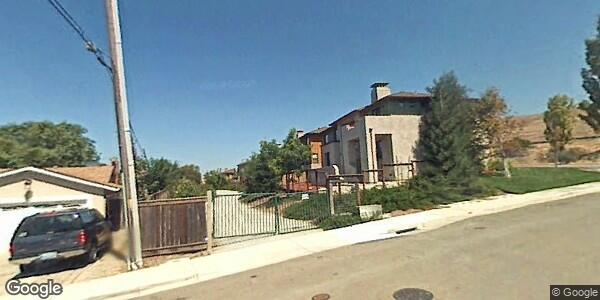Wood_Pole: (85, 1, 145, 271)
